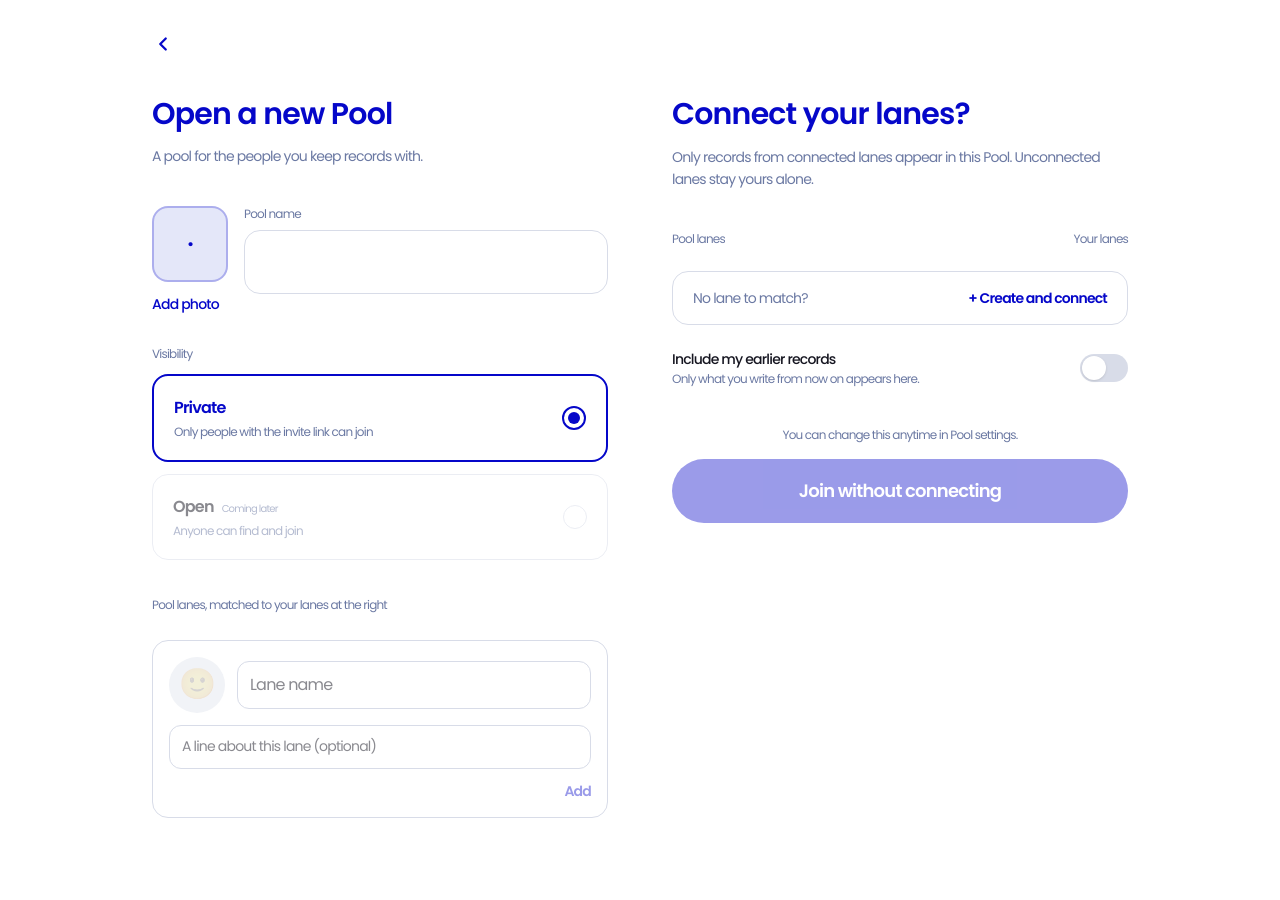
Test: opening a new pool (review) › opens the pool only once it has a name and a lane
Check: the button "Join without connecting" is disabled, box [672,459,1128,523]
In the field labelled "Pool name": (426, 262) [244,230,608,294], type "Sarang"
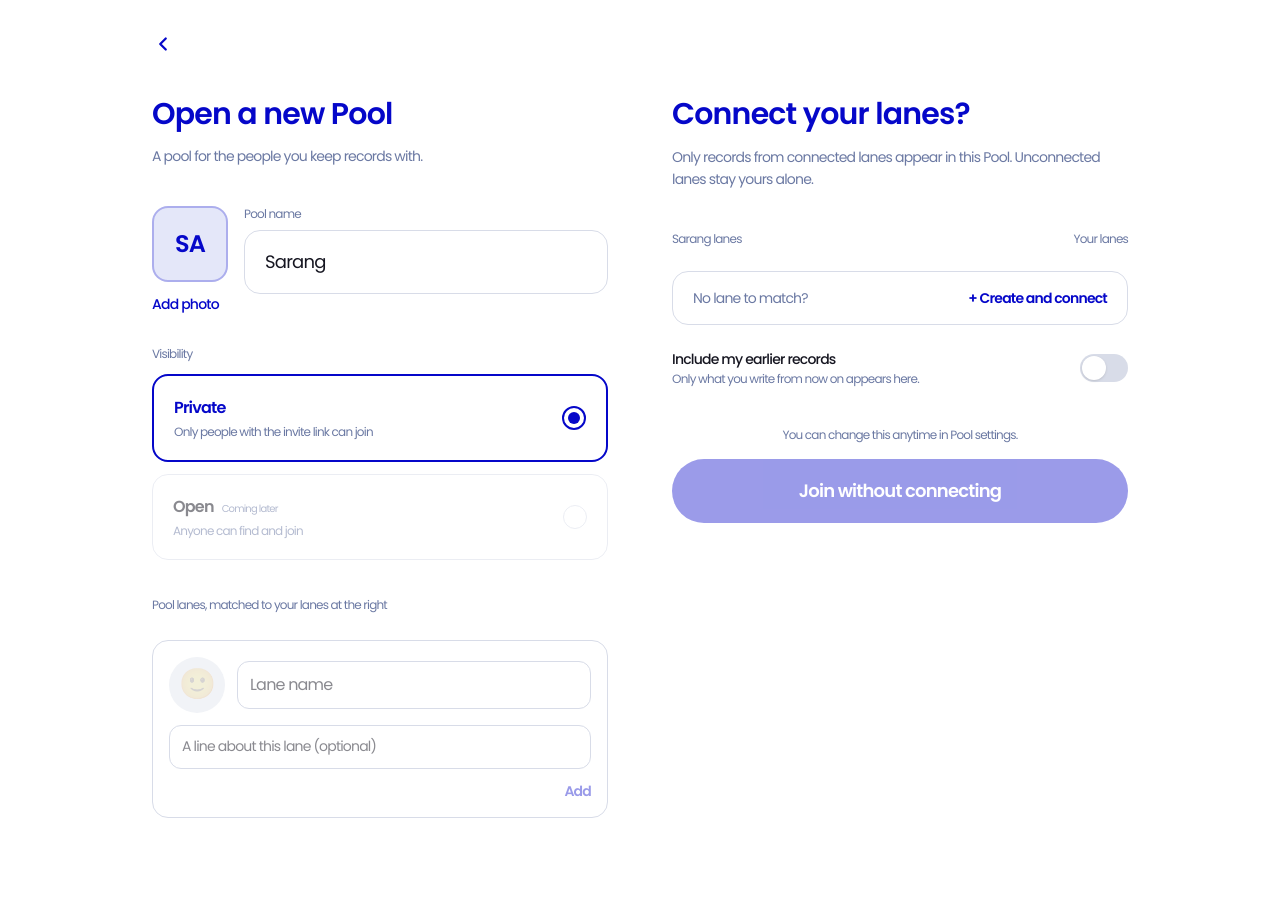
In the field named "Lane name": (414, 684) [237,660,591,708], type "Trips"
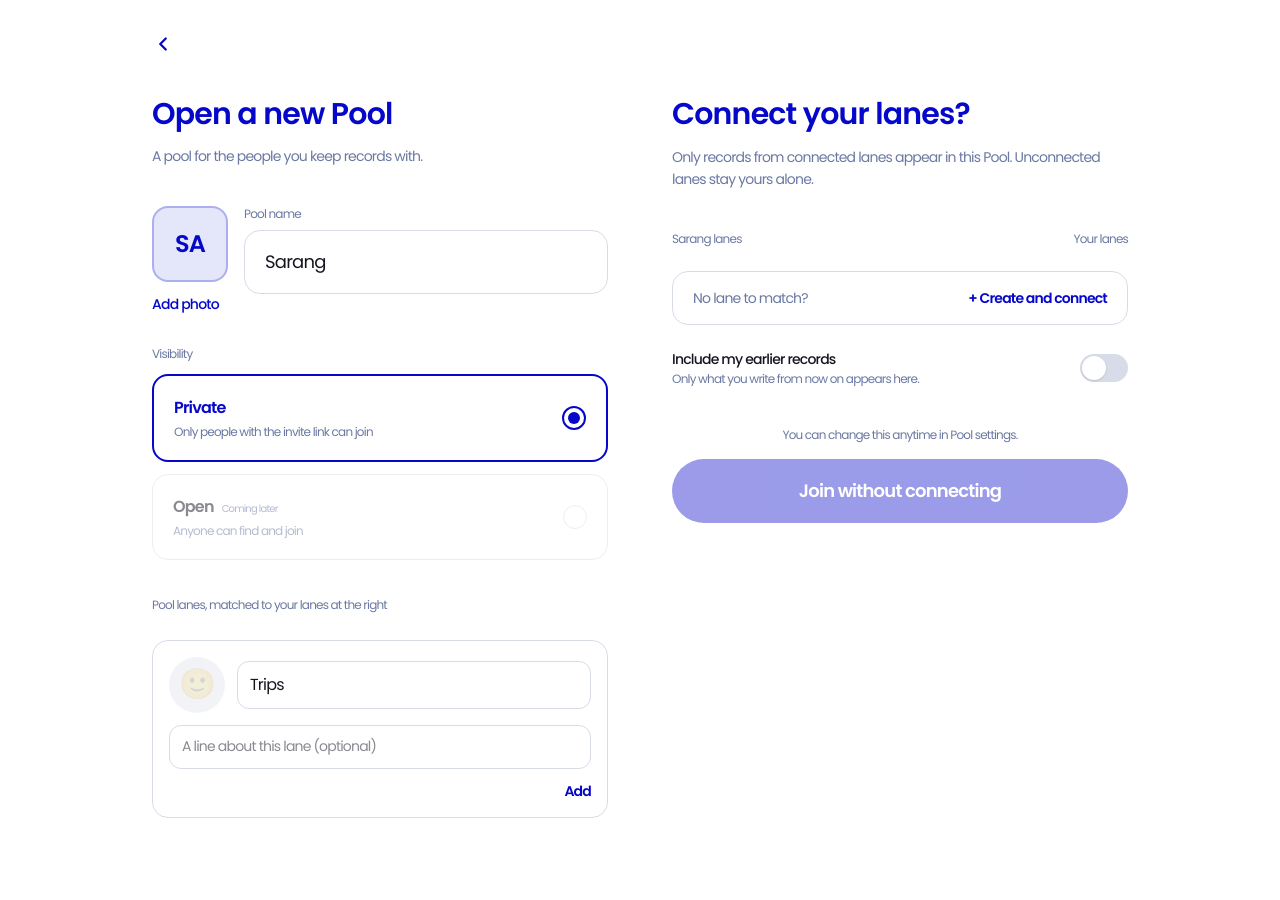
Click the button "Add": (578, 790) [564,780,591,800]
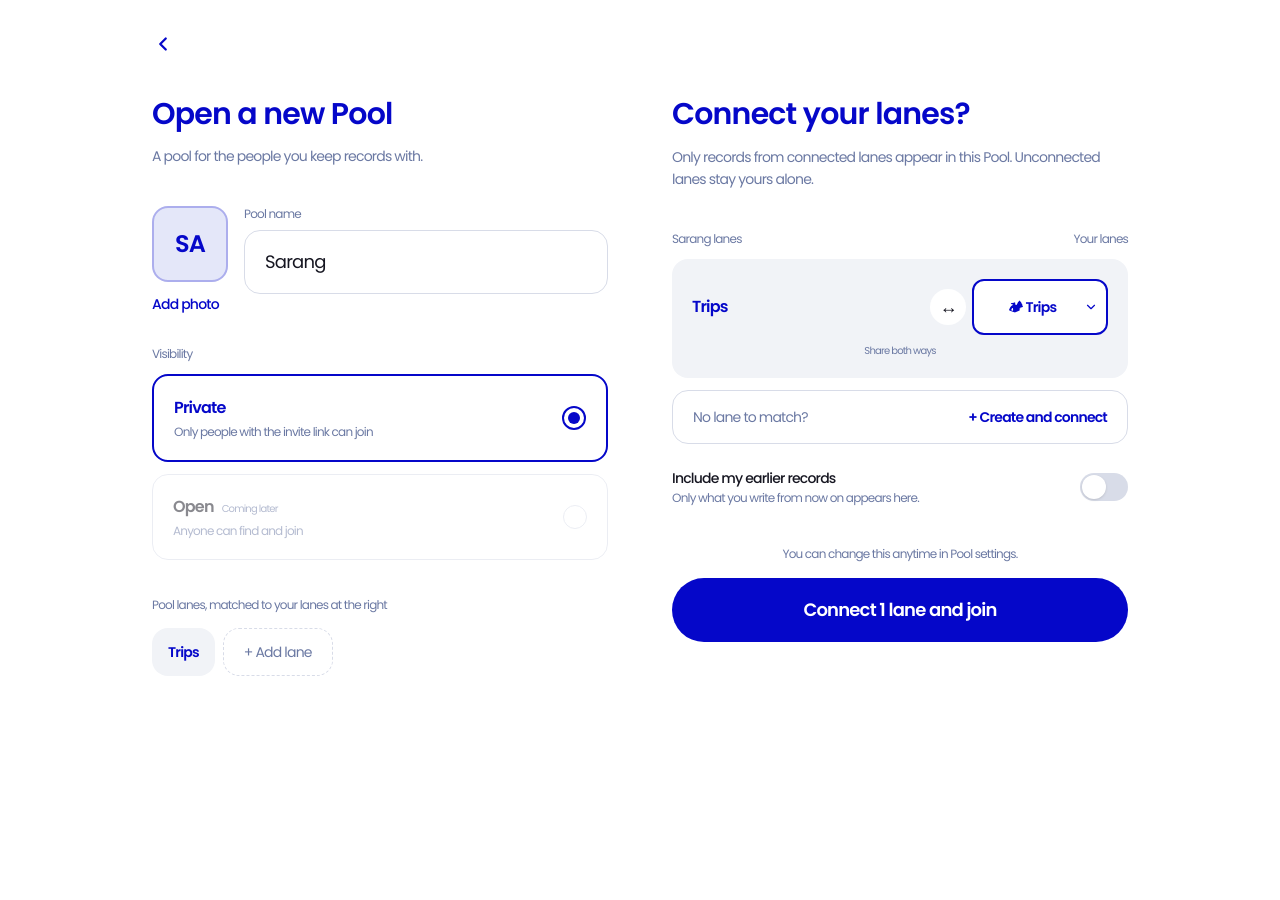
Check: the button "Connect 1 lane and join" is enabled, box [672,578,1128,642]
Check: the button "Connect 1 lane and join" is shown, box [672,578,1128,642]
